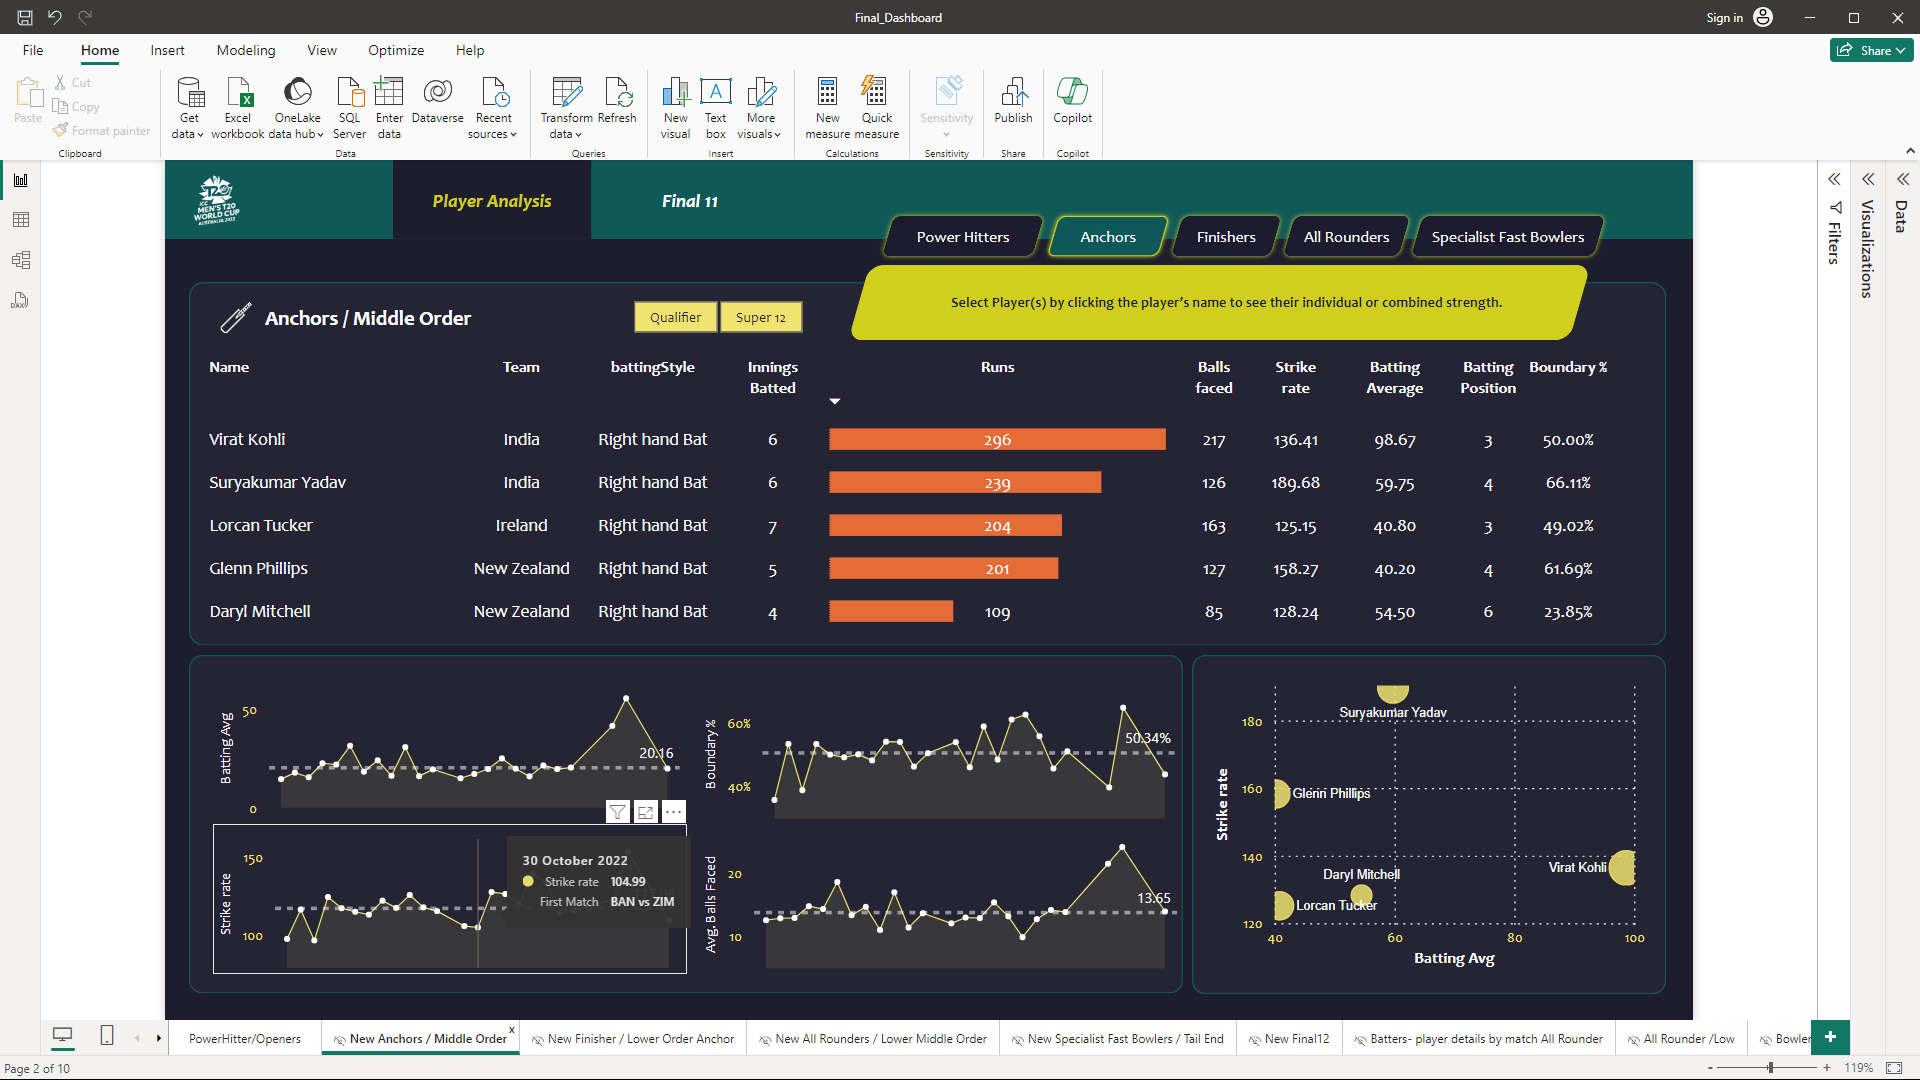

Layout of this report page (visuals, bound fields, positions):
{"tool":"powerbi","page":{"name":"New Anchors / Middle Order","canvas":[1280,720],"ordinal":1},"visuals":[{"type":"shape","box":[0,66,1280,654],"z":0},{"type":"card","fields":{"Values":["Key_Measures.Strike rate"]},"box":[866.4,88.6,93,60],"z":0,"group":"g2"},{"type":"group","id":"g1","title":"Group 2","box":[83.8,116.2,260,31.2],"z":0,"group":"g3"},{"type":"shape","box":[83.8,116.2,260,31.2],"z":0,"group":"g1"},{"type":"card","fields":{"Values":["Key_Measures.Bat Avg"]},"box":[767.4,88.6,92,60],"z":1000,"group":"g2"},{"type":"image","box":[38,114,44,36],"z":1000,"group":"g3"},{"type":"shape","box":[20,414.4,832.2,283.3],"z":1000},{"type":"actionButton","box":[734,42.6,111,42],"z":2000},{"type":"card","fields":{"Values":["Key_Measures.Avergate Balls Faced"]},"box":[1063,90.3,110,56.7],"z":2000,"group":"g2"},{"type":"actionButton","box":[596,42.6,144,42],"z":3000},{"type":"card","fields":{"Values":["Key_Measures.Boundary %"]},"box":[965.4,88.6,101,60],"z":3000,"group":"g2"},{"type":"actionButton","box":[838,42.6,101,42],"z":4000},{"type":"actionButton","box":[932,42.6,115,42],"z":5000},{"type":"actionButton","box":[1039,42.6,171,42],"z":6000},{"type":"image","box":[19.6,4.9,48,58.8],"z":7000},{"type":"areaChart","fields":{"Category":["dim_match_summary.Match_Date.Variation.Date Hierarchy.Day"],"Y":["Key_Measures.Boundary %"]},"box":[446,430,406,126],"z":9000},{"type":"shape","box":[860,414,397,284],"z":10000},{"type":"areaChart","fields":{"Category":["dim_match_summary.Match_Date.Variation.Date Hierarchy.Day"],"Y":["Key_Measures.Avergate Balls Faced"]},"box":[446,556,406,126],"z":11000},{"type":"areaChart","fields":{"Category":["dim_match_summary.Match_Date.Variation.Date Hierarchy.Day"],"Y":["Key_Measures.Bat Avg"]},"box":[40,428.9,395.6,126.7],"z":12000},{"type":"areaChart","fields":{"Category":["dim_match_summary.Match_Date.Variation.Date Hierarchy.Day"],"Y":["Key_Measures.Strike rate"]},"box":[40,555.6,396.7,125.6],"z":13000},{"type":"shape","box":[20,102.2,1236.7,304.4],"z":14000},{"type":"slicer","fields":{"Values":["dim_match_summary.stage"]},"box":[366.7,111.1,191.1,38.9],"z":15000},{"type":"shape","box":[572,88,622,63],"z":16000},{"type":"shape","box":[590.4,101.6,173,34],"z":17000},{"type":"group","id":"g2","title":"Combined Perfoamce Metrices","box":[767.4,88.6,405.6,60],"z":18000},{"type":"group","id":"g3","title":"Group 1","box":[38,114,305.8,36],"z":19000},{"type":"tableEx","fields":{"Values":["dim_player.name","dim_player.team","dim_player.Batting Style","Key_Measures.Total Matches","Key_Measures.Total Runs","Key_Measures.total balls faced","Key_Measures.Strike rate","Key_Measures.Bat Avg","Key_Measures.Batting Position","Key_Measures.Boundary %"]},"box":[26,151,1231,255],"z":20000},{"type":"scatterChart","fields":{"Y":["Key_Measures.Strike rate"],"Category":["dim_player.name"],"X":["Key_Measures.Bat Avg"],"Size":["Key_Measures.Total Runs"]},"box":[874,427,370,254],"z":21000},{"type":"actionButton","title":"Button Player Ana selected","box":[357,0,166,66],"z":22000},{"type":"actionButton","title":"Button Player Ana selected","box":[191,0,166,66],"z":23000},{"type":"shape","box":[608.6,100.9,560.6,36.3],"z":23501}]}

Visuals, with their boxes on the page's 1280x720 design canvas (x1, y1, x2, y2). These are canvas units, not pixel positions in the 1920x1080 screenshot, which may show the page scaled, cropped or inside an application window:
shape: 0, 66, 1280, 720
card - Key_Measures.Strike rate: 866, 89, 959, 149
"Group 2" group: 84, 116, 344, 147
shape: 84, 116, 344, 147
card - Key_Measures.Bat Avg: 767, 89, 859, 149
image: 38, 114, 82, 150
shape: 20, 414, 852, 698
actionButton: 734, 43, 845, 85
card - Key_Measures.Avergate Balls Faced: 1063, 90, 1173, 147
actionButton: 596, 43, 740, 85
card - Key_Measures.Boundary %: 965, 89, 1066, 149
actionButton: 838, 43, 939, 85
actionButton: 932, 43, 1047, 85
actionButton: 1039, 43, 1210, 85
image: 20, 5, 68, 64
areaChart - dim_match_summary.Match_Date.Variation.Date Hierarchy.Day x Key_Measures.Boundary %: 446, 430, 852, 556
shape: 860, 414, 1257, 698
areaChart - dim_match_summary.Match_Date.Variation.Date Hierarchy.Day x Key_Measures.Avergate Balls Faced: 446, 556, 852, 682
areaChart - dim_match_summary.Match_Date.Variation.Date Hierarchy.Day x Key_Measures.Bat Avg: 40, 429, 436, 556
areaChart - dim_match_summary.Match_Date.Variation.Date Hierarchy.Day x Key_Measures.Strike rate: 40, 556, 437, 681
shape: 20, 102, 1257, 407
slicer - dim_match_summary.stage: 367, 111, 558, 150
shape: 572, 88, 1194, 151
shape: 590, 102, 763, 136
"Combined Perfoamce Metrices" group: 767, 89, 1173, 149
"Group 1" group: 38, 114, 344, 150
tableEx - dim_player.name x dim_player.team: 26, 151, 1257, 406
scatterChart - Key_Measures.Strike rate x dim_player.name: 874, 427, 1244, 681
"Button Player Ana selected" actionButton: 357, 0, 523, 66
"Button Player Ana selected" actionButton: 191, 0, 357, 66
shape: 609, 101, 1169, 137
